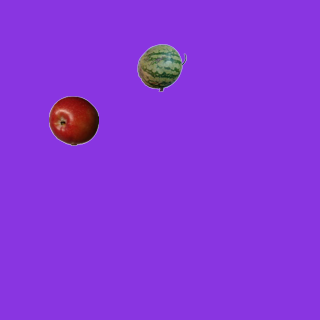Apple Braeburn: (48, 95, 98, 145)
Watermelon: (136, 42, 186, 92)
